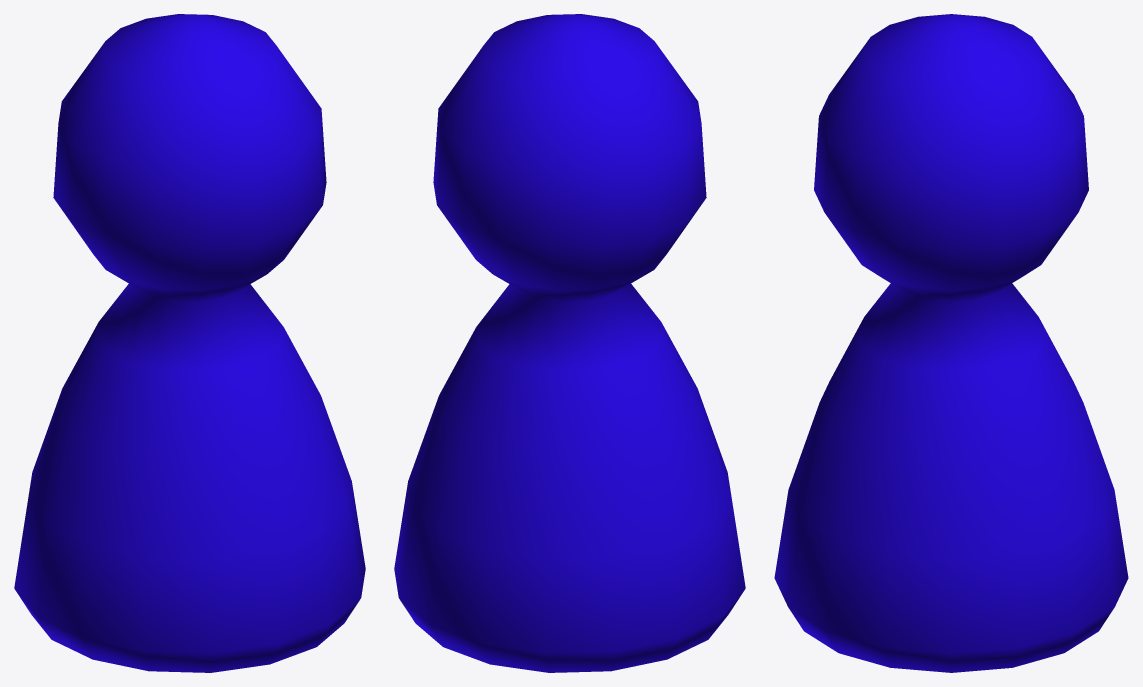
The model's file is Pawn.fbx.
The picture shows the model from 3 angles, left to right: view 1: azimuth 30°, elevation 25°; view 2: azimuth 150°, elevation 25°; view 3: azimuth 270°, elevation 25°; orthographic projection.
Parts seen in each view (by area): view 1: Cube.001; view 2: Cube.001; view 3: Cube.001.
Boxes of the visible parts, x1=… form: Cube.001: x1=14, y1=14, x2=365, y2=672; Cube.001: x1=394, y1=14, x2=745, y2=672; Cube.001: x1=774, y1=14, x2=1128, y2=672.
Size of the model in its own units: 0.8537 by 1.55 by 0.8537.
